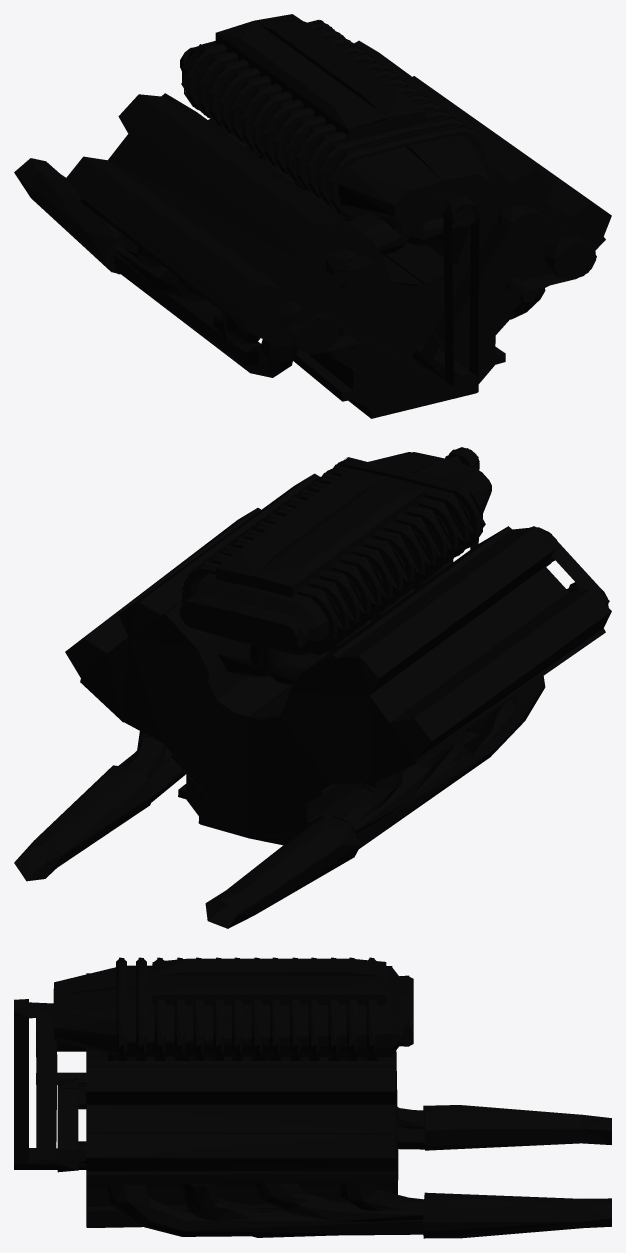
The picture shows the model from 3 angles, top to bottom: view 1: azimuth 30°, elevation 25°; view 2: azimuth 150°, elevation 25°; view 3: azimuth 270°, elevation 25°; orthographic projection. The views are drawn at different scales.
Visible parts, largest first — view 1: motor; view 2: motor; view 3: motor.
Boxes of the visible parts, x1,y1,x2,y2 form: motor: (14,14,611,418); motor: (14,447,611,928); motor: (14,957,611,1238).
Bounding box in the file's own units: 0.7275 × 0.4933 × 1.14.
Materials: 1 (1 with a texture image).
